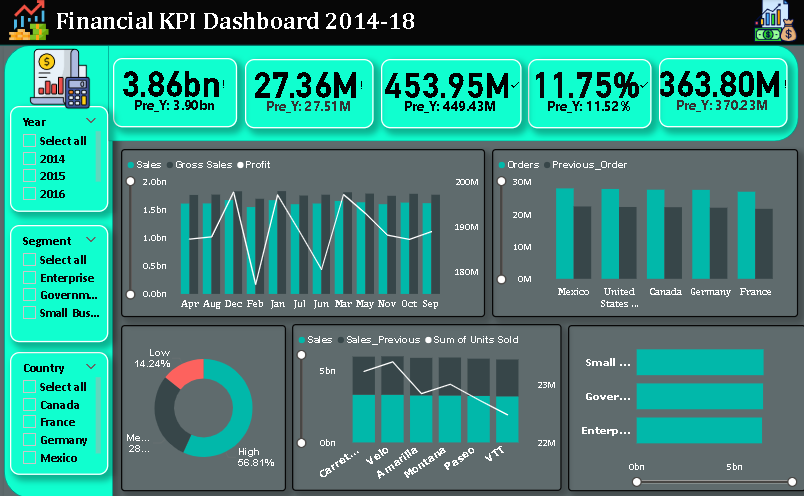

What the dashboard file says about the page in this screenshot:
{"tool":"powerbi","page":{"name":"Page 1","canvas":[1280,800],"ordinal":0},"visuals":[{"type":"shape","box":[8.6,80,172.9,720],"z":0},{"type":"shape","box":[172.9,80,1095.7,152.9],"z":1000},{"type":"kpi","fields":{"Indicator":["All Measures.Sales"],"Goal":["All Measures.Sales_Previous"],"TrendLine":["Date_Table.Year"]},"box":[181.4,100,197.1,110],"z":2000},{"type":"slicer","fields":{"Values":["Date_Table.Year"]},"box":[17.2,175.6,156.2,168],"z":3000},{"type":"slicer","fields":{"Values":["Financial_data_Power_BI.Country"]},"box":[17.2,567,156.2,194.9],"z":4000},{"type":"slicer","fields":{"Values":["Financial_data_Power_BI.Segment"]},"box":[17.2,365.4,156.2,186.5],"z":5000},{"type":"kpi","fields":{"Goal":["All Measures.Order_Previous"],"TrendLine":["Date_Table.Year"],"Indicator":["All Measures.Orders"]},"box":[390,101.4,204.3,110],"z":6000},{"type":"kpi","fields":{"Indicator":["All Measures.Profit Margin %"],"Goal":["All Measures.Profit Margin_Previous"],"TrendLine":["Date_Table.Year"]},"box":[840,101.4,195.7,110],"z":7000},{"type":"kpi","fields":{"Indicator":["All Measures.Profit"],"Goal":["All Measures.Profit_Privious"],"TrendLine":["Date_Table.Year"]},"box":[605.7,101.4,222.9,110],"z":8000},{"type":"kpi","fields":{"Indicator":["All Measures.Discount"],"Goal":["All Measures.Discount_Previous"],"TrendLine":["Date_Table.Year"]},"box":[1047.1,100,204.3,110],"z":9000},{"type":"lineClusteredColumnComboChart","fields":{"Y":["All Measures.Sales","Sum(Financial_data_Power_BI.Gross Sales)"],"Category":["Date_Table.Month Name"],"Y2":["All Measures.Profit"]},"box":[193.5,244.5,577.8,267.1],"z":10000},{"type":"clusteredColumnChart","fields":{"Category":["Financial_data_Power_BI.Country"],"Y":["All Measures.Orders","All Measures.Order_Previous"]},"box":[782.9,244.3,485.7,267.1],"z":11000},{"type":"lineStackedColumnComboChart","fields":{"Category":["Financial_data_Power_BI.Product"],"Y":["All Measures.Sales","All Measures.Sales_Previous"],"Y2":["Sum(Financial_data_Power_BI.Units Sold)"]},"box":[465.2,521.9,427.7,265],"z":12000},{"type":"clusteredBarChart","fields":{"Category":["Financial_data_Power_BI.Segment"],"Y":["All Measures.Sales"]},"box":[902.4,523.3,378,263.7],"z":13000},{"type":"donutChart","fields":{"Category":["Financial_data_Power_BI.Discount Band"],"Y":["All Measures.Discount"]},"box":[193.1,523.4,262.1,263.5],"z":14000},{"type":"shape","box":[0,0,1280,80],"z":15000},{"type":"textbox","box":[48.6,14.3,652.9,65.7],"z":16000},{"type":"image","box":[0,0,95.7,80],"z":16001},{"type":"image","box":[11.4,80,170,107.1],"z":16002},{"type":"image","box":[1185.7,0,94.3,80],"z":16003}]}

Visuals, with their boxes in screenshot pixels (x1, y1, x2, y2), scaled from the page's 1280x800 canvas onto the 804x496 screenshot:
shape: region(5, 50, 114, 495)
shape: region(109, 50, 797, 144)
kpi - All Measures.Sales x All Measures.Sales_Previous: region(114, 62, 238, 130)
slicer - Date_Table.Year: region(11, 109, 109, 213)
slicer - Financial_data_Power_BI.Country: region(11, 352, 109, 472)
slicer - Financial_data_Power_BI.Segment: region(11, 227, 109, 342)
kpi - All Measures.Order_Previous x Date_Table.Year: region(245, 63, 373, 131)
kpi - All Measures.Profit Margin % x All Measures.Profit Margin_Previous: region(528, 63, 651, 131)
kpi - All Measures.Profit x All Measures.Profit_Privious: region(380, 63, 520, 131)
kpi - All Measures.Discount x All Measures.Discount_Previous: region(658, 62, 786, 130)
lineClusteredColumnComboChart - All Measures.Sales x Sum(Financial_data_Power_BI.Gross Sales): region(122, 152, 484, 317)
clusteredColumnChart - Financial_data_Power_BI.Country x All Measures.Orders: region(492, 151, 797, 317)
lineStackedColumnComboChart - Financial_data_Power_BI.Product x All Measures.Sales: region(292, 324, 561, 488)
clusteredBarChart - Financial_data_Power_BI.Segment x All Measures.Sales: region(567, 324, 803, 488)
donutChart - Financial_data_Power_BI.Discount Band x All Measures.Discount: region(121, 325, 286, 488)
shape: region(0, 0, 803, 50)
textbox: region(31, 9, 441, 50)
image: region(0, 0, 60, 50)
image: region(7, 50, 114, 116)
image: region(745, 0, 803, 50)
